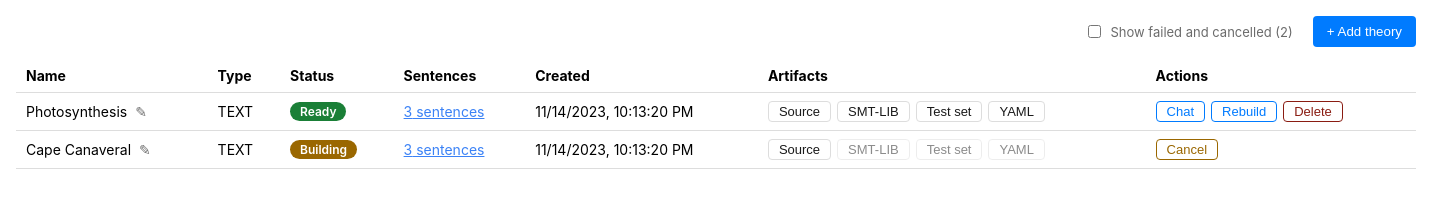
a rename to a taken name is refused, and Escape cancels
Click the button named "Rename Photosynthesis" at (141, 112), box [133,104,149,120]
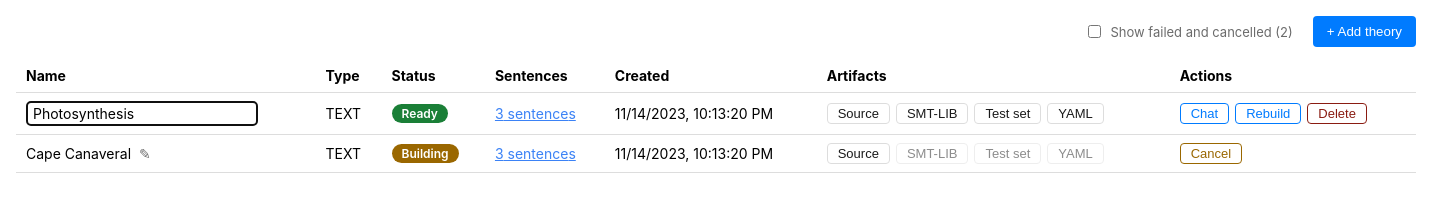
Replace the text in the field named "New name for Photosynthesis" with "cape canaveral" at (142, 114), box [26,101,258,126]
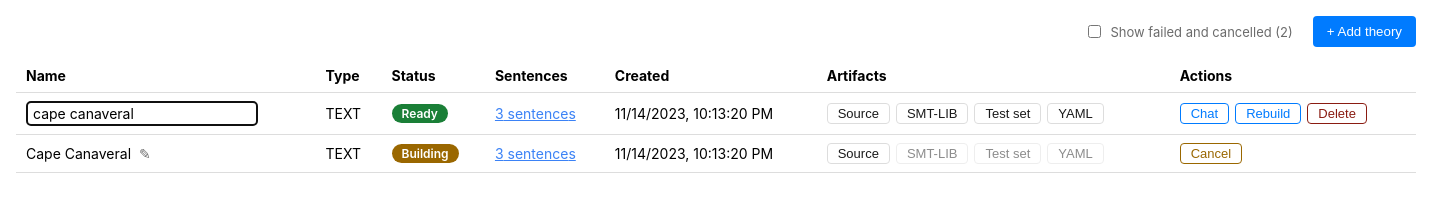
Press Enter in the field named "New name for Photosynthesis", box [26,101,258,126]
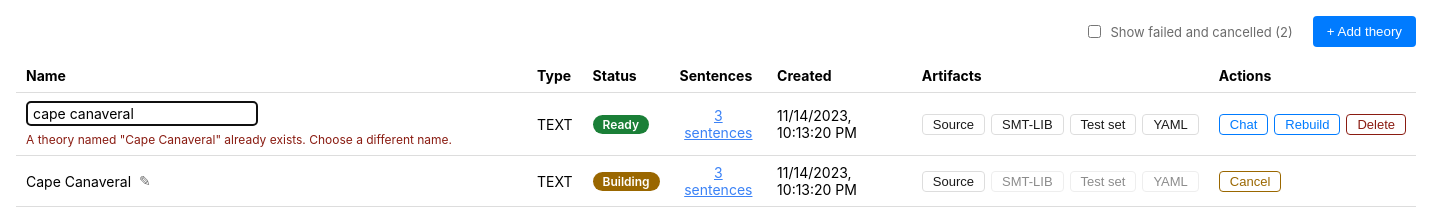
Check: the message shows "A theory named \"Cape Canaveral\" already exists", box [26,132,452,147]
Press Escape in the field named "New name for Photosynthesis", box [26,101,258,126]
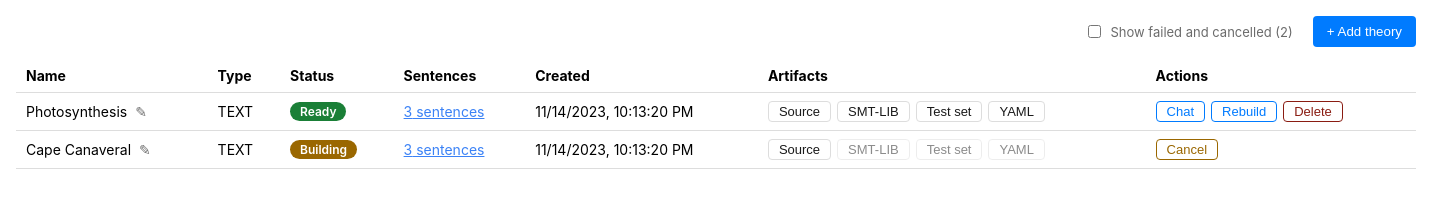
Check: the text "Photosynthesis" is shown, box [26,103,127,120]
